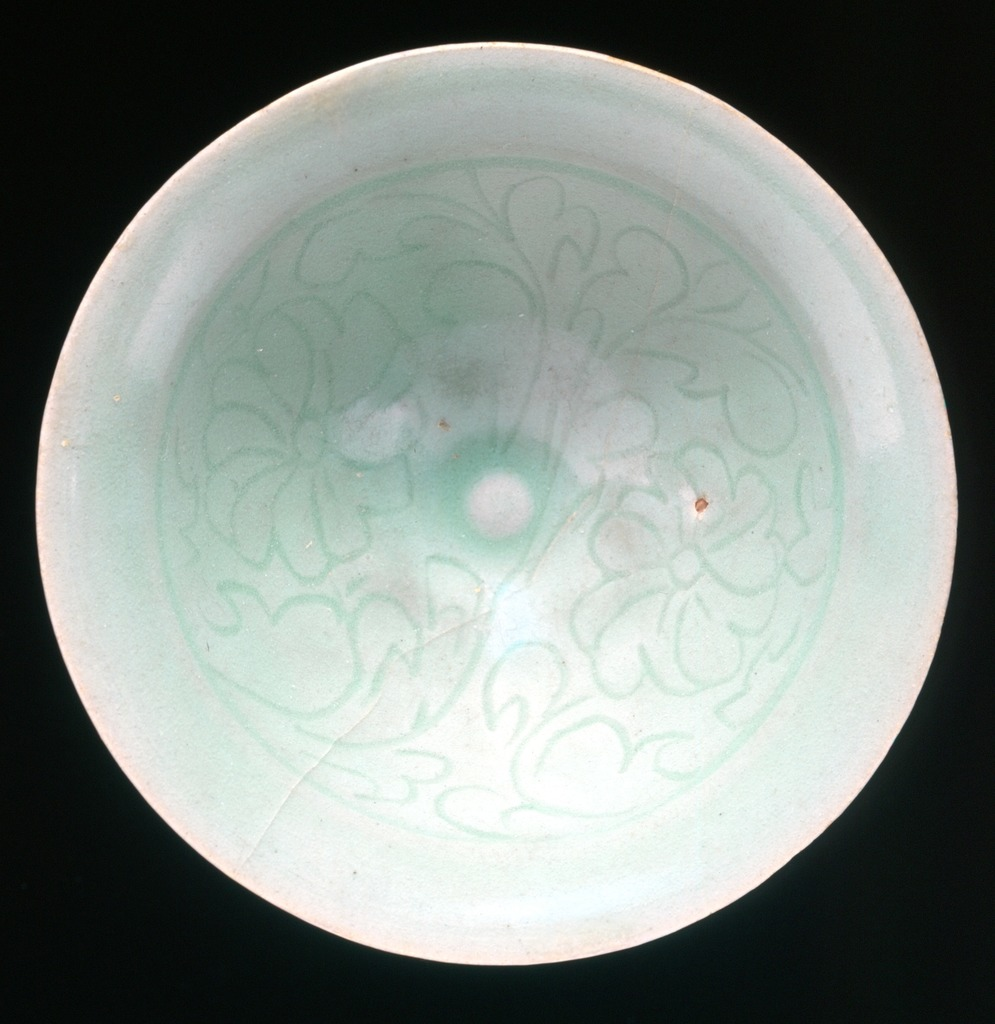plate: (30, 29, 968, 979)
